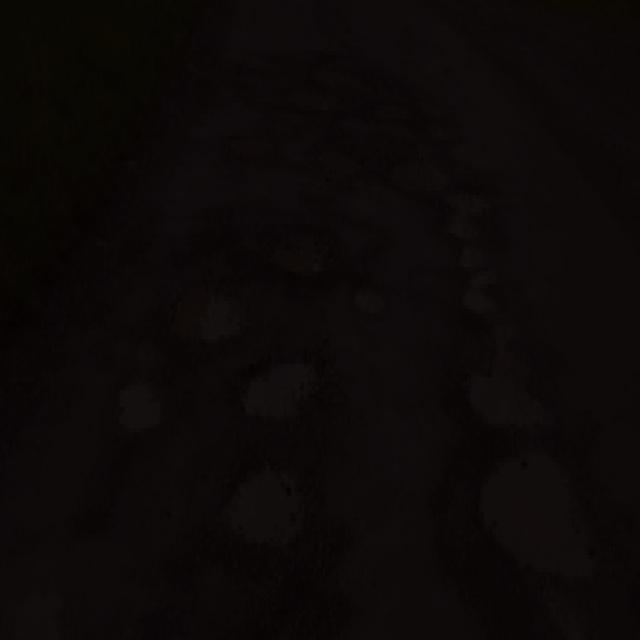Pothole: (443, 191, 554, 428), (471, 441, 623, 594), (208, 448, 308, 557), (228, 356, 341, 419), (282, 50, 376, 125), (232, 156, 362, 210), (159, 274, 249, 342), (242, 218, 332, 278), (110, 366, 180, 439), (386, 145, 454, 200), (346, 276, 386, 321)
